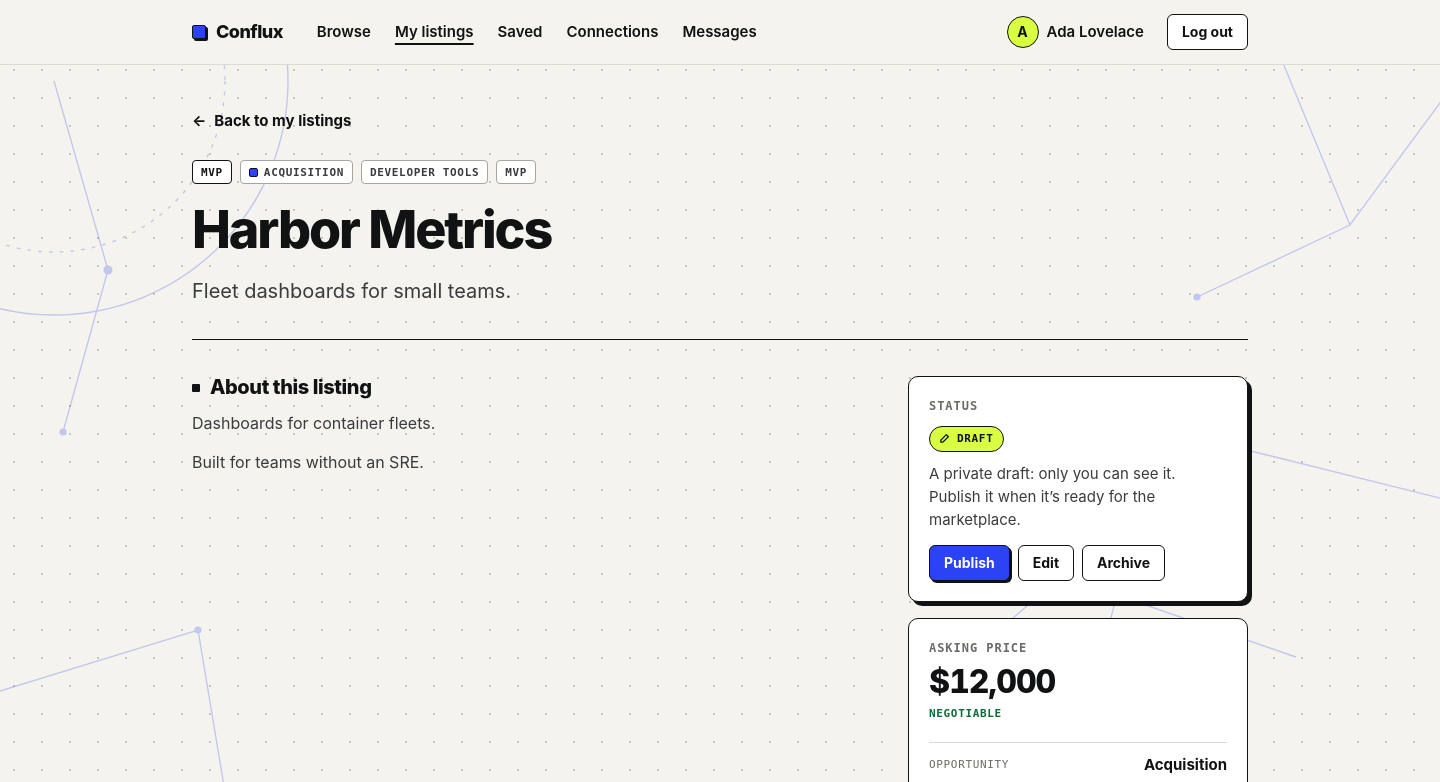
My listing › publishes a draft, then shows it as PUBLISHED with its published time and public link
The width and height of the screenshot is (1440, 782).
Click the button "Publish" at (969, 563), box x1=929 y1=545 x2=1010 y2=581
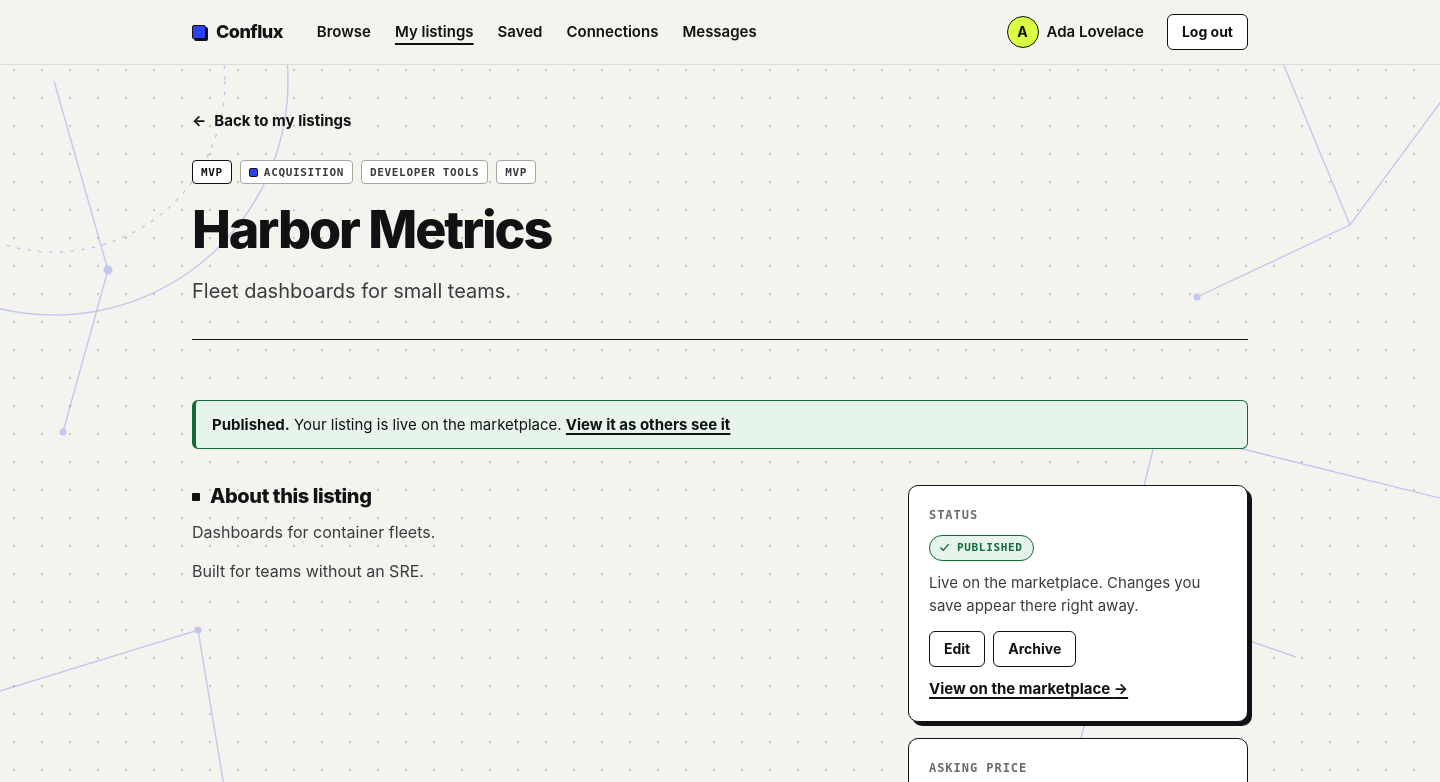
Expected: the link "Edit" is shown, x1=929 y1=631 x2=985 y2=667
Expected: the text "Published" is shown, x1=929 y1=535 x2=1034 y2=561
Expected: the text "Published." shows "live on the marketplace", x1=290 y1=415 x2=562 y2=434
